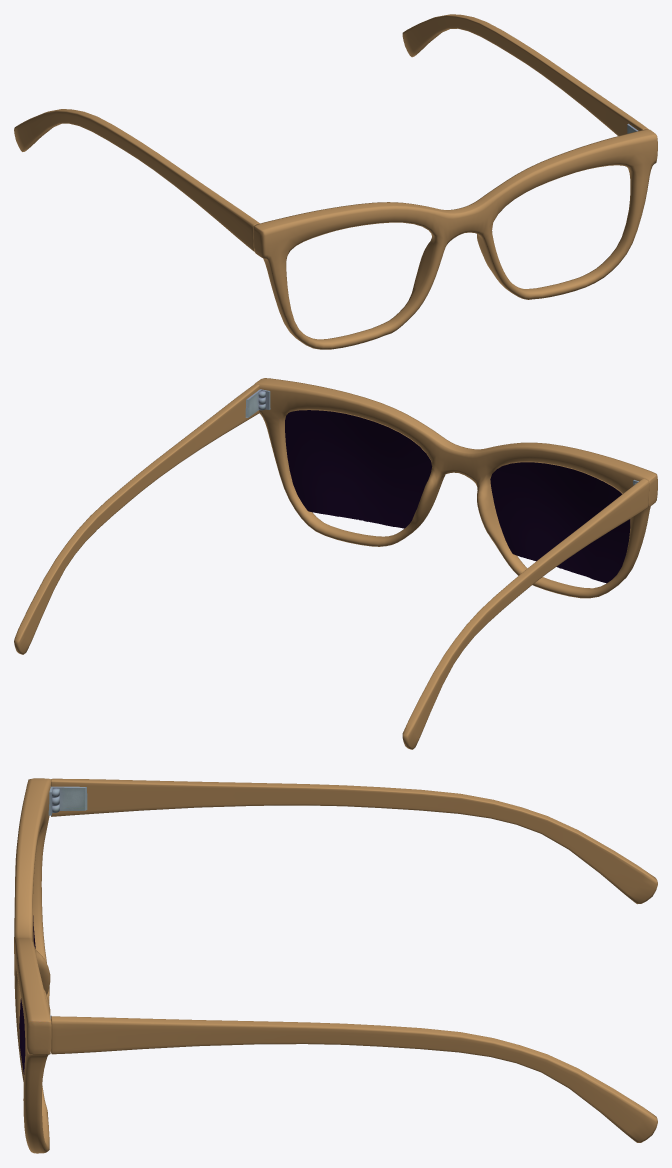
Rendered from inesta_2.obj.
The picture shows the model from 3 angles, top to bottom: view 1: azimuth 30°, elevation 25°; view 2: azimuth 150°, elevation 25°; view 3: azimuth 270°, elevation 25°; orthographic projection. The views are drawn at different scales.
Parts seen in each view (by area): view 1: Cube.002_Cube.026; view 2: Cube.002_Cube.026; view 3: Cube.002_Cube.026.
Part boxes in pixels (bbox=[...]): Cube.002_Cube.026: bbox=[14, 14, 657, 349]; Cube.002_Cube.026: bbox=[14, 378, 657, 749]; Cube.002_Cube.026: bbox=[14, 778, 657, 1153].
Size of the model in its own units: 0.1388 by 0.0474 by 0.1553.
